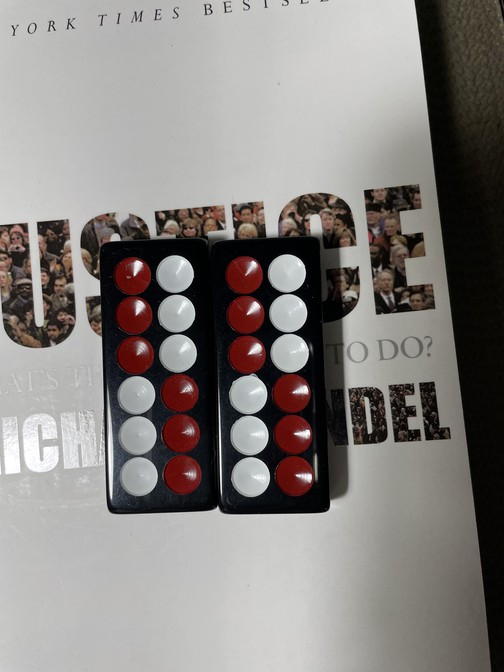heaven: (216, 240, 331, 518), (97, 242, 214, 514)
